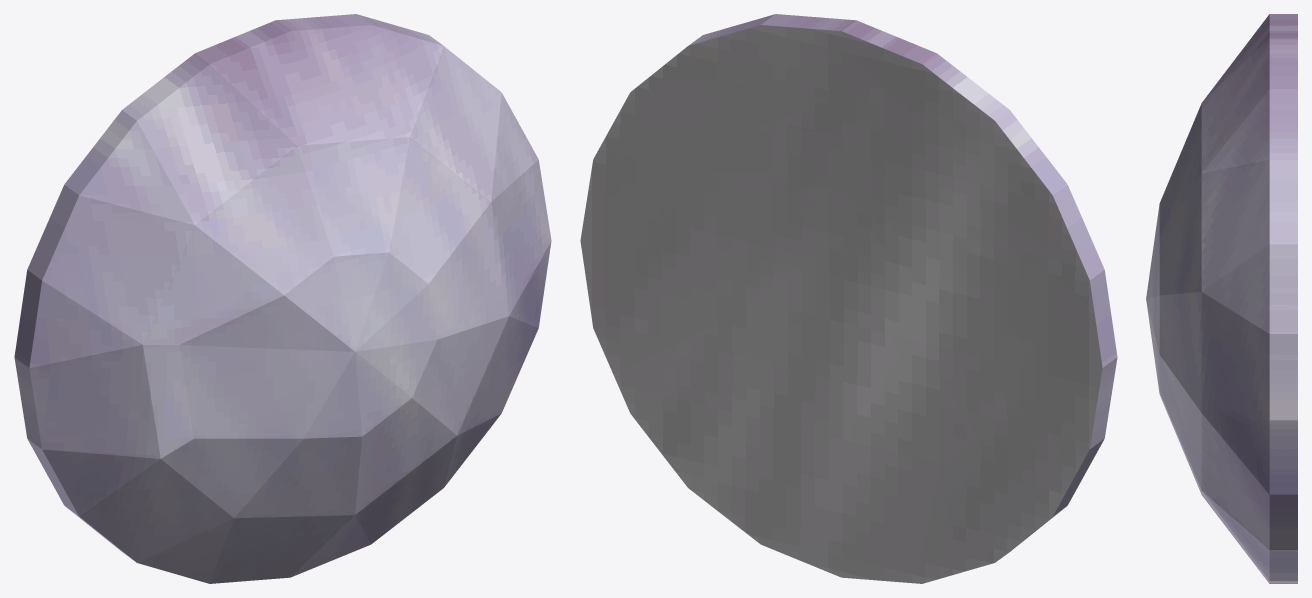
File: item_plate_round.glb
3 views of the same model, side by side, from view 1: azimuth 30°, elevation 25°; view 2: azimuth 150°, elevation 25°; view 3: azimuth 270°, elevation 25° (orthographic). The views are drawn at different scales.
Visible parts, largest first — view 1: RoundPlate; view 2: RoundPlate; view 3: RoundPlate.
Part boxes in pixels (left/top/right/bottom): RoundPlate: left=14, top=14, right=551, bottom=583; RoundPlate: left=580, top=14, right=1117, bottom=583; RoundPlate: left=1146, top=14, right=1297, bottom=583.
Size of the model in its own units: 0.8485 by 0.8485 by 0.2244.
Materials: 1 (1 with a texture image).
